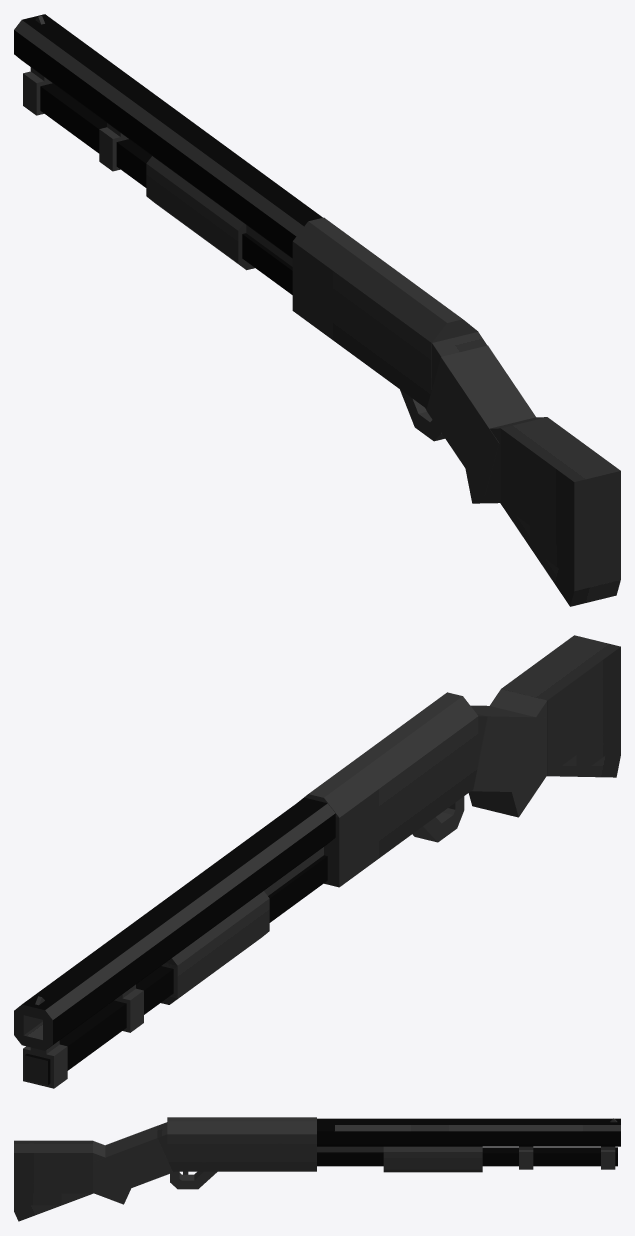
Rendered from mteg_mossberg_590.glb.
3 renders of one model, top to bottom at view 1: azimuth 30°, elevation 25°; view 2: azimuth 150°, elevation 25°; view 3: azimuth 270°, elevation 25°, orthographic. The views are drawn at different scales.
Visible parts, largest first — view 1: Gun; view 2: Gun; view 3: Gun.
Part boxes in pixels (x1,y1,x2,y2): Gun: (14,14,620,606); Gun: (14,635,620,1088); Gun: (14,1117,620,1221).
Size of the model in its own units: 0.0756 by 0.2768 by 1.57.
1 material, 1 textured.
